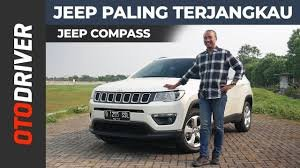mobil: (87, 53, 258, 138)
